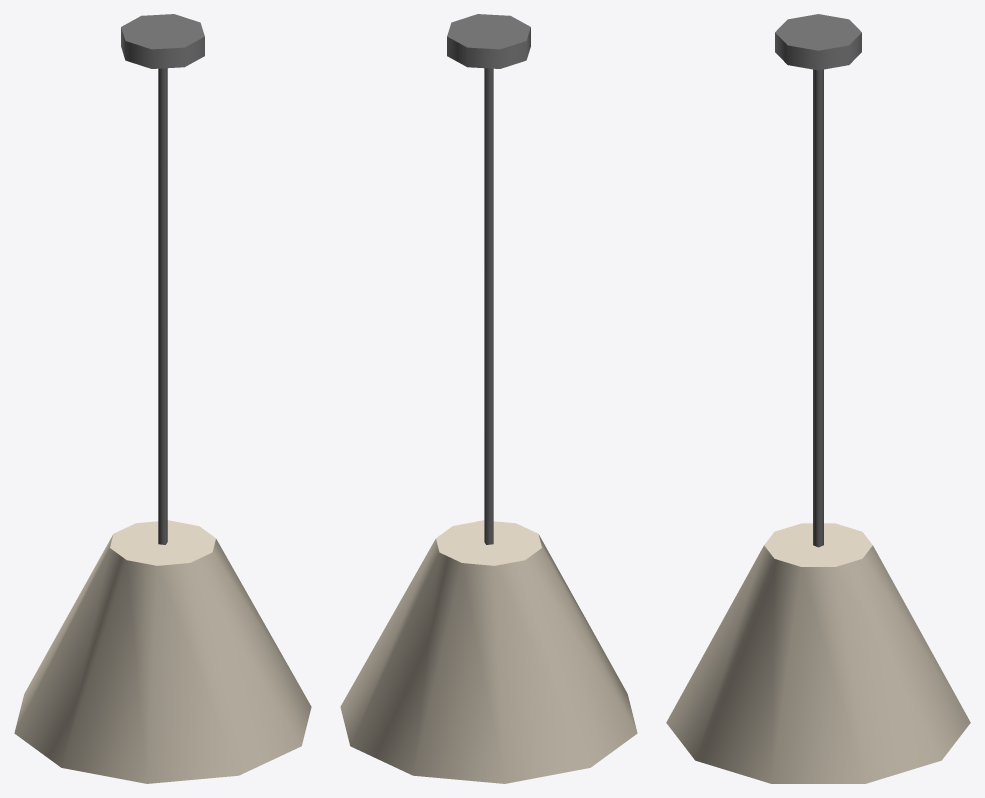
The model's file is ceiling-lamp.glb.
3 renders of one model, left to right at view 1: azimuth 30°, elevation 25°; view 2: azimuth 150°, elevation 25°; view 3: azimuth 270°, elevation 25°, orthographic.
Visible parts, largest first — view 1: shade, cord, mount; view 2: shade, cord, mount; view 3: shade, cord, mount.
Part boxes in pixels (x1,y1,x2,y2): shade: (14,520,311,783); cord: (158,68,167,544); mount: (121,14,204,68); shade: (340,520,637,783); cord: (484,68,493,544); mount: (447,14,530,68); shade: (666,523,970,783); cord: (813,69,823,547); mount: (775,14,861,70).
Size of the model in its own units: 0.2663 by 0.7 by 0.28.
